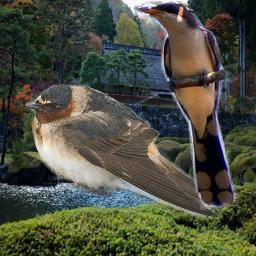Cuckoo: (134, 1, 238, 210)
Swallow: (25, 84, 221, 218)
